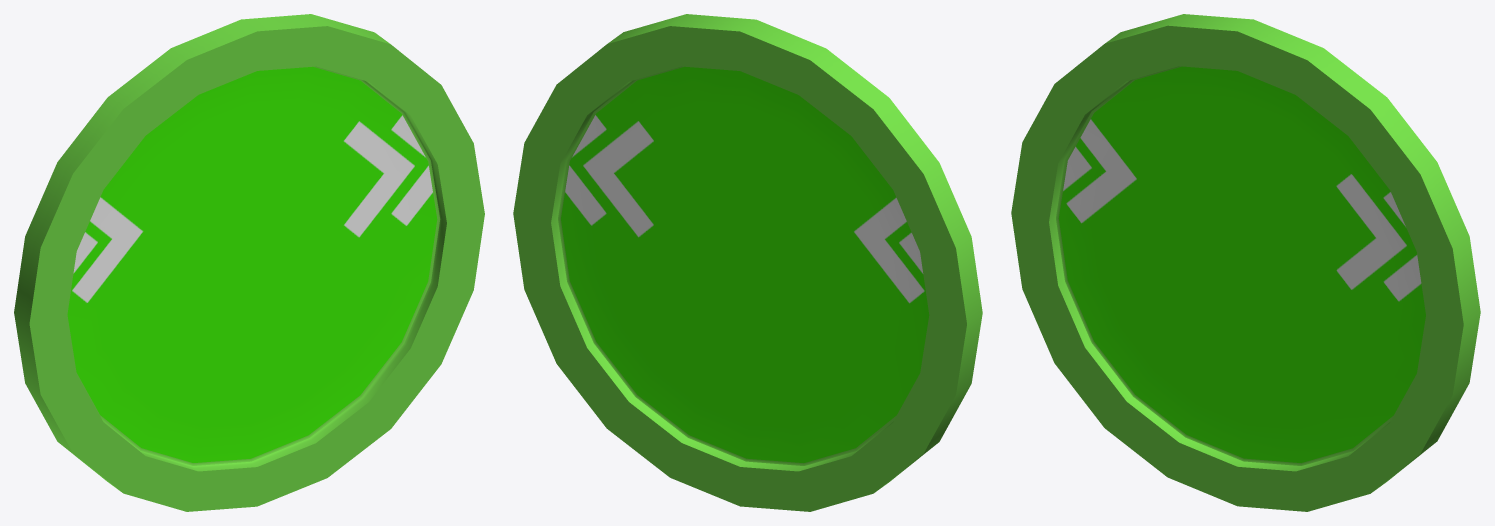
File: speed_boost_powerup.fbx
3 renders of one model, left to right at view 1: azimuth 30°, elevation 25°; view 2: azimuth 150°, elevation 25°; view 3: azimuth 330°, elevation 25°, orthographic.
Parts seen in each view (by area): view 1: pCylinder1; view 2: pCylinder1; view 3: pCylinder1.
Part boxes in pixels (box(x1,y1,x2,y2)): pCylinder1: box(14, 14, 484, 511); pCylinder1: box(513, 14, 982, 511); pCylinder1: box(1011, 14, 1480, 511).
Bounding box in the file's own units: 36.24 × 36.24 × 2.34.
